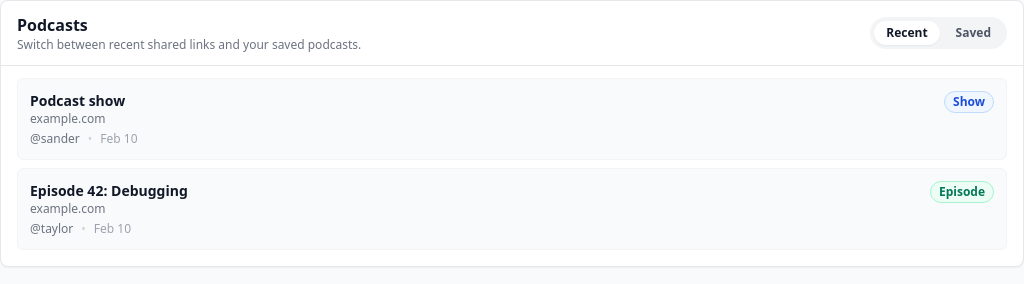
Test: PodcastsTopContainer › shows recent mode by default and switches to saved mode
The image size is (1024, 284).
Expected: the list with test id "podcasts-recent-list" is shown, [17, 78, 1007, 250]
Expected: the text "Show" is shown, [944, 91, 994, 113]
Click the tab with test id "podcasts-mode-saved": (973, 33) [944, 21, 1003, 45]
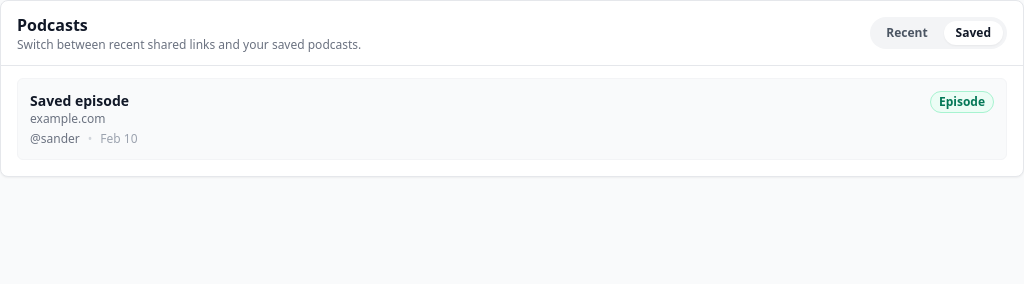
Expected: the list with test id "podcasts-saved-list" is shown, [17, 78, 1007, 160]
Expected: the text "Saved episode" is shown, [30, 91, 138, 111]
